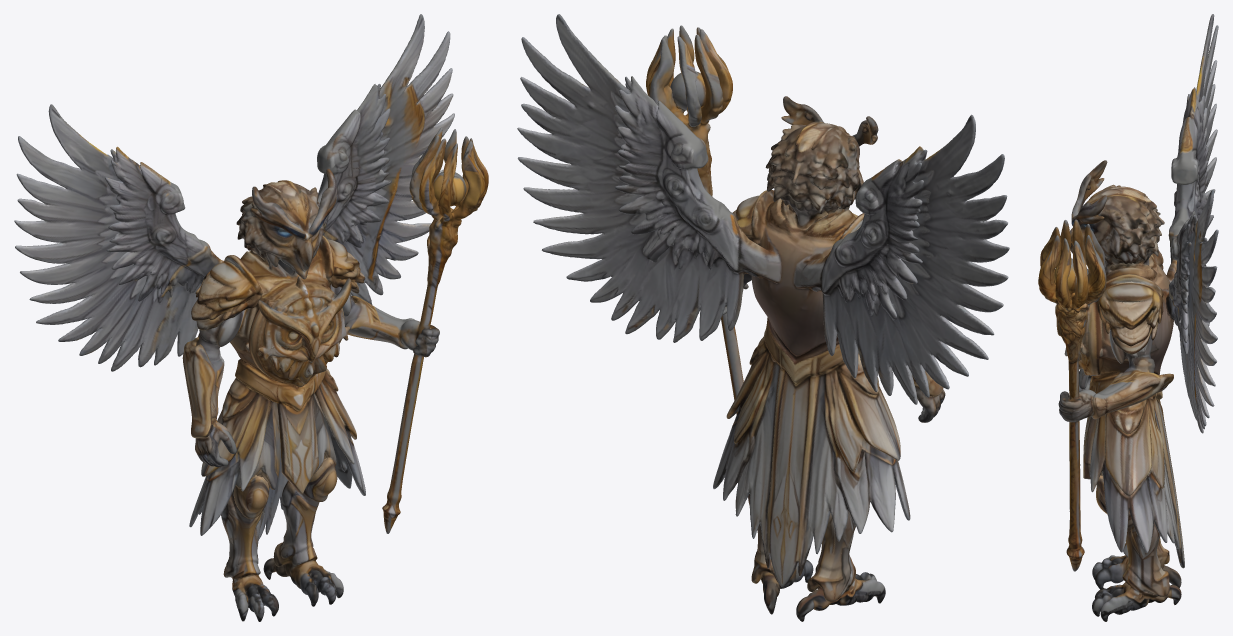
Rendered from Orion.glb.
3 views of the same model, side by side, from view 1: azimuth 30°, elevation 25°; view 2: azimuth 150°, elevation 25°; view 3: azimuth 270°, elevation 25° (orthographic). The views are drawn at different scales.
Visible parts, largest first — view 1: tripo_node_dc6a2215-08be-4b36-a2b9-228a7e0402a1; view 2: tripo_node_dc6a2215-08be-4b36-a2b9-228a7e0402a1; view 3: tripo_node_dc6a2215-08be-4b36-a2b9-228a7e0402a1.
Boxes of the visible parts, <box> form: tripo_node_dc6a2215-08be-4b36-a2b9-228a7e0402a1: <box>14,14,488,621</box>; tripo_node_dc6a2215-08be-4b36-a2b9-228a7e0402a1: <box>517,14,1009,621</box>; tripo_node_dc6a2215-08be-4b36-a2b9-228a7e0402a1: <box>1038,14,1218,621</box>.
Bounding box in the file's own units: 0.9016 × 1 × 0.3282.
1 material, 1 textured.
